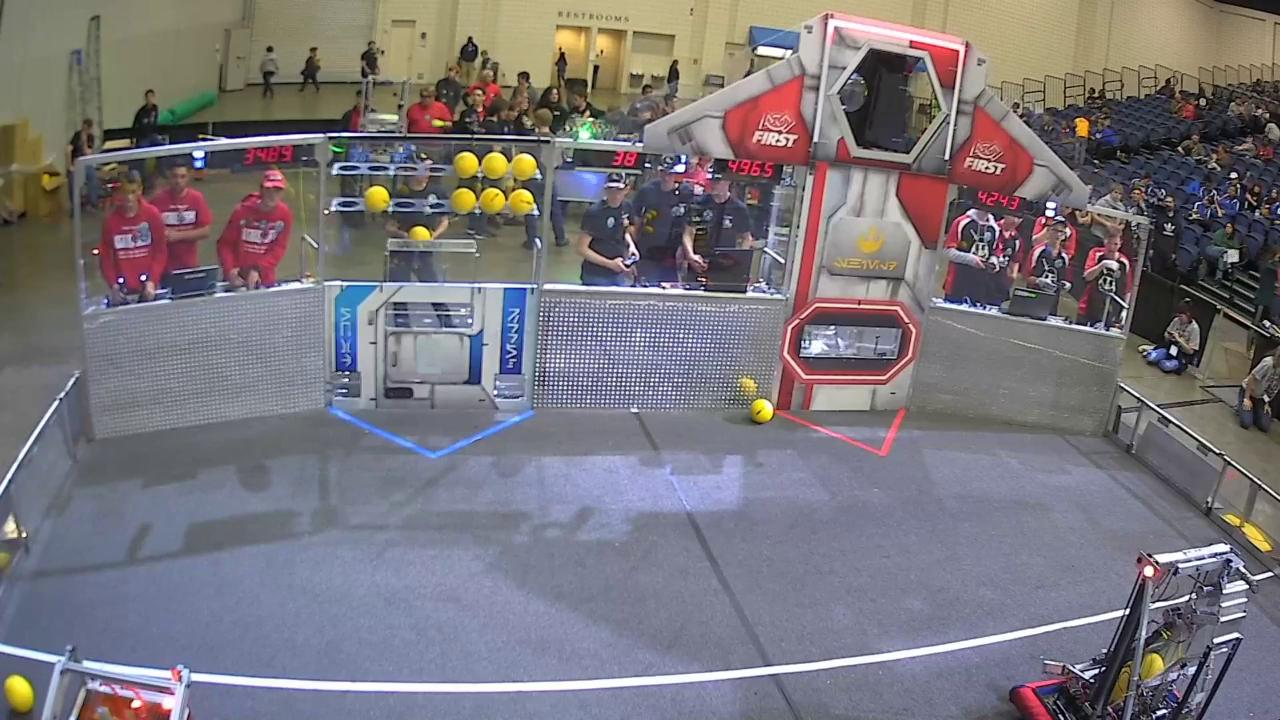robot: (1011, 543, 1256, 720)
